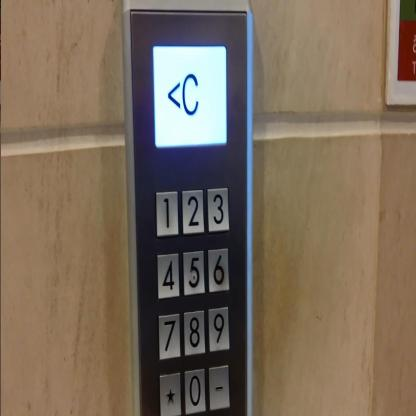-: (208, 365, 232, 411)
0: (183, 369, 207, 415)
1: (155, 190, 180, 237)
2: (181, 188, 205, 234)
3: (206, 187, 231, 233)
4: (156, 252, 181, 299)
5: (182, 250, 206, 296)
6: (206, 247, 231, 293)
7: (157, 314, 182, 360)
8: (182, 310, 206, 356)
9: (206, 306, 231, 353)
led: (150, 41, 228, 149)
s: (158, 369, 182, 415)
